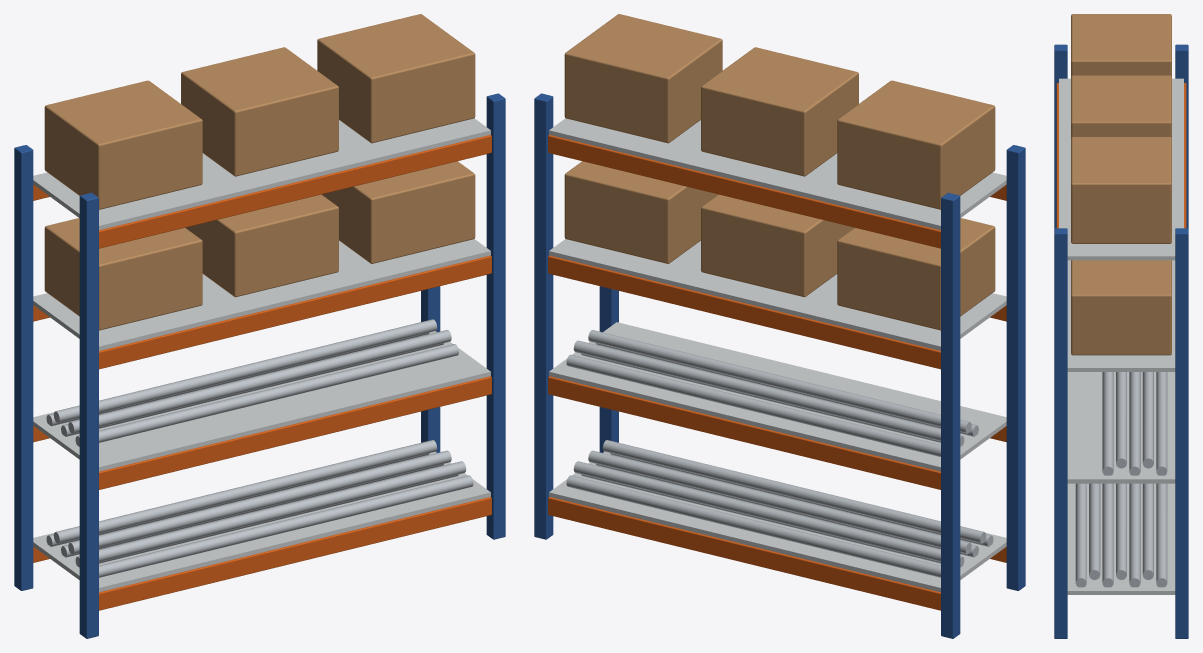
The model's file is storage-rack-2m.glb.
3 renders of one model, left to right at view 1: azimuth 30°, elevation 25°; view 2: azimuth 150°, elevation 25°; view 3: azimuth 270°, elevation 25°, orthographic. The views are drawn at different scales.
Parts seen in each view (by area): view 1: cardboard, paint_light_grey, aluminium, rack_orange, rack_blue; view 2: cardboard, paint_light_grey, aluminium, rack_orange, rack_blue; view 3: cardboard, paint_light_grey, aluminium, rack_blue, rack_orange.
Part boxes in pixels (<box>): cardboard: <box>44,14,475,330</box>; paint_light_grey: <box>33,118,490,592</box>; aluminium: <box>46,319,473,577</box>; rack_orange: <box>33,135,491,610</box>; rack_blue: <box>14,93,505,638</box>; cardboard: <box>564,14,995,330</box>; paint_light_grey: <box>549,118,1006,592</box>; aluminium: <box>566,330,993,577</box>; rack_orange: <box>548,135,1006,610</box>; rack_blue: <box>534,93,1025,638</box>; cardboard: <box>1071,14,1171,355</box>; paint_light_grey: <box>1059,78,1183,594</box>; aluminium: <box>1075,372,1167,587</box>; rack_blue: <box>1054,44,1188,638</box>; rack_orange: <box>1056,83,1186,228</box>.
Bounding box in the file's own units: 2 × 2.2 × 0.6.
